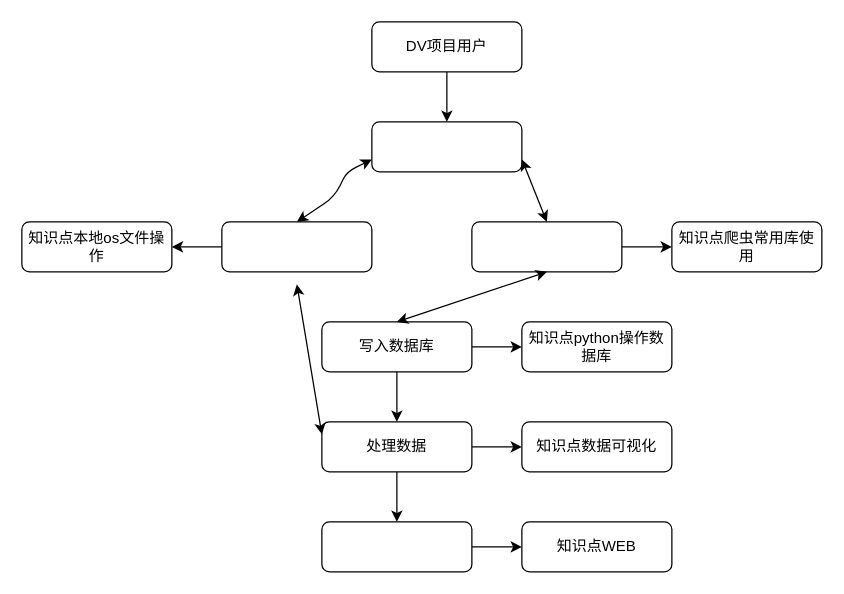
Some shapes in this 844 by 594 pixel diagram are drawn without their labels. The shapes that lost their labels are listed below. From the top down, each one's centre as x and y in pixels, then its label:
(446,146): 打开网站
(296,246): 上传数据
(546,246): 爬取数据
(396,546): 展示图形数据
